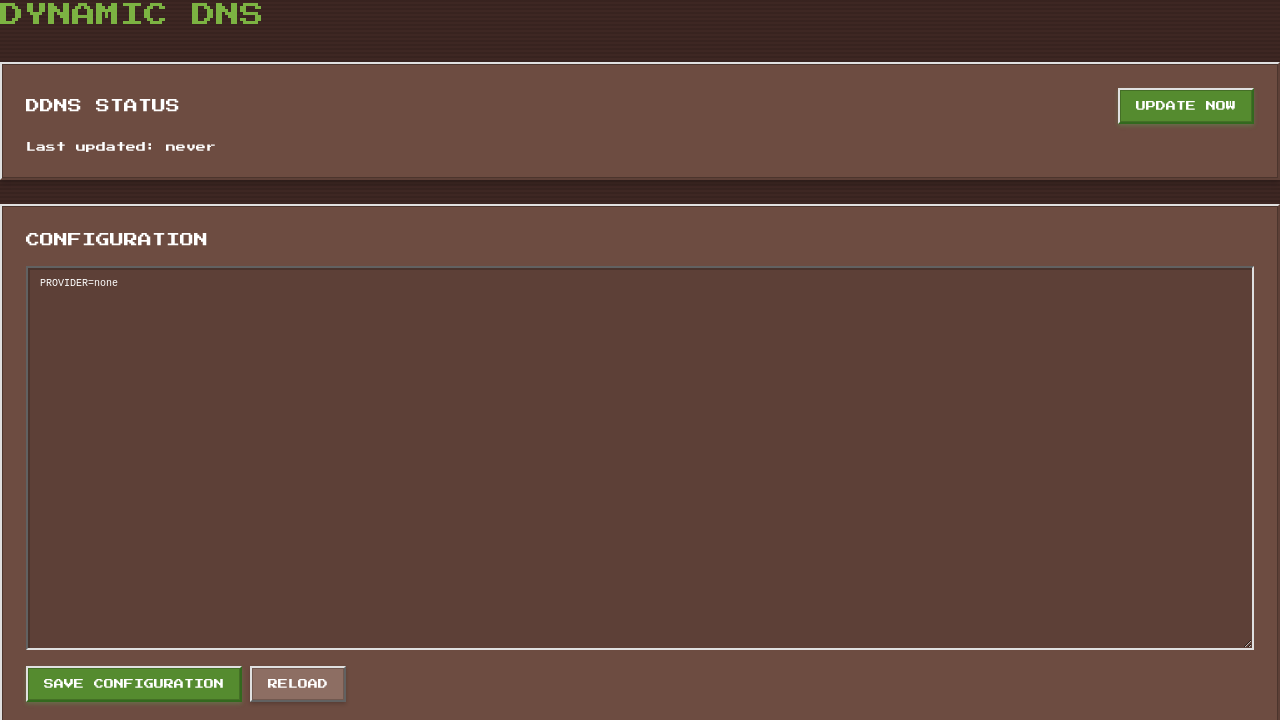
Scenario: DynamicDNS › saves edited configuration
The image size is (1280, 720).
Replace the text in the text box named "ddns configuration" with "PROVIDER=cloudflare" at (640, 458), box [26, 266, 1254, 650]
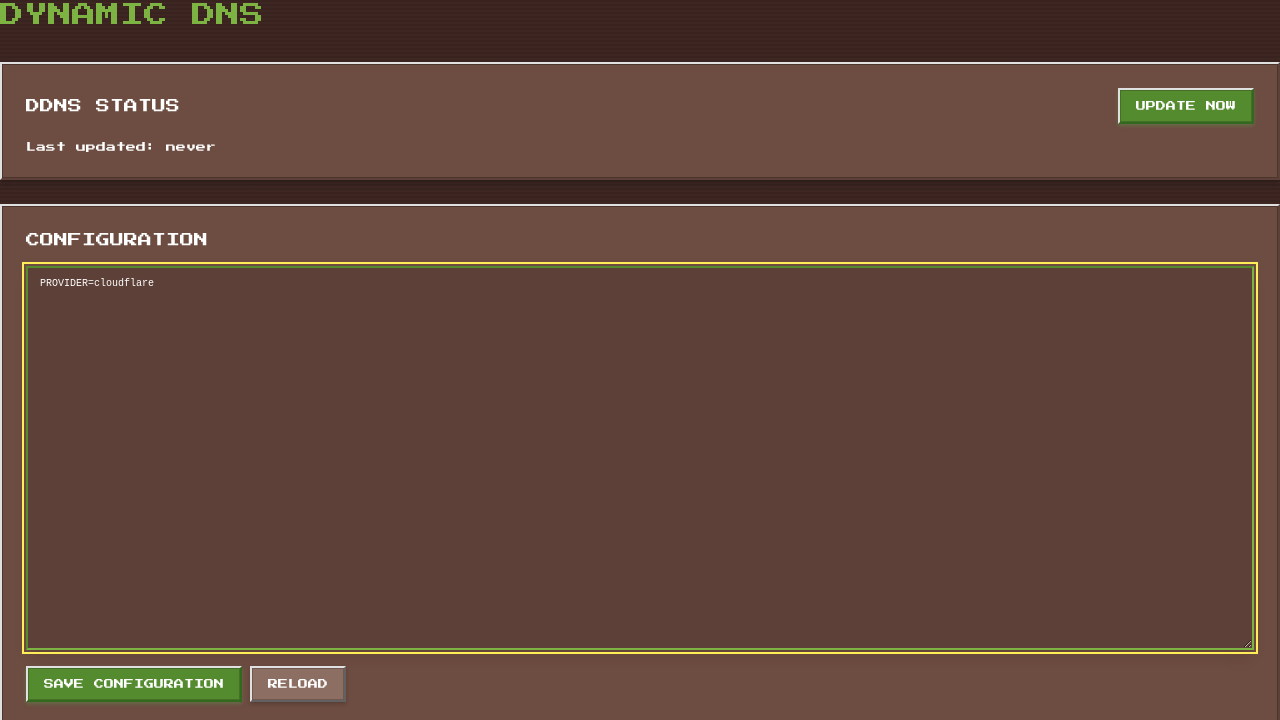
Click the button "SAVE CONFIGURATION" at (134, 684), box [26, 666, 242, 702]
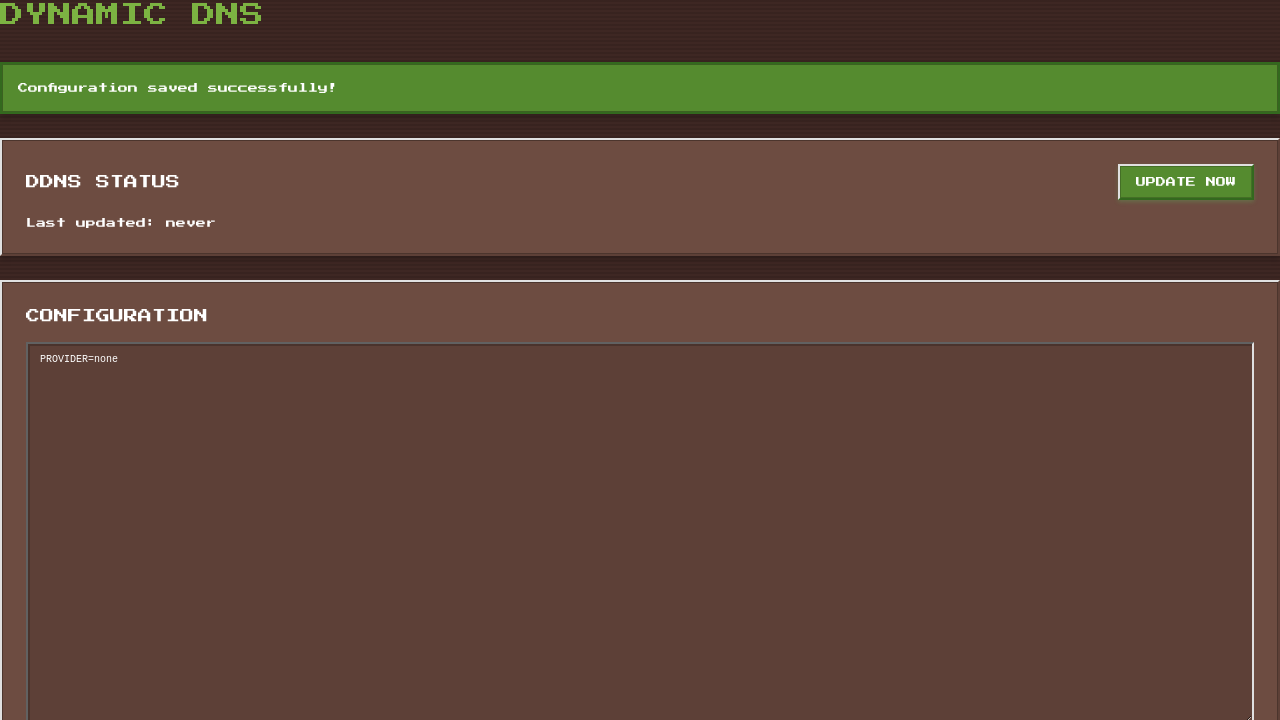
Expected: the text "Configuration saved successfully!" is shown, [18, 80, 338, 96]
